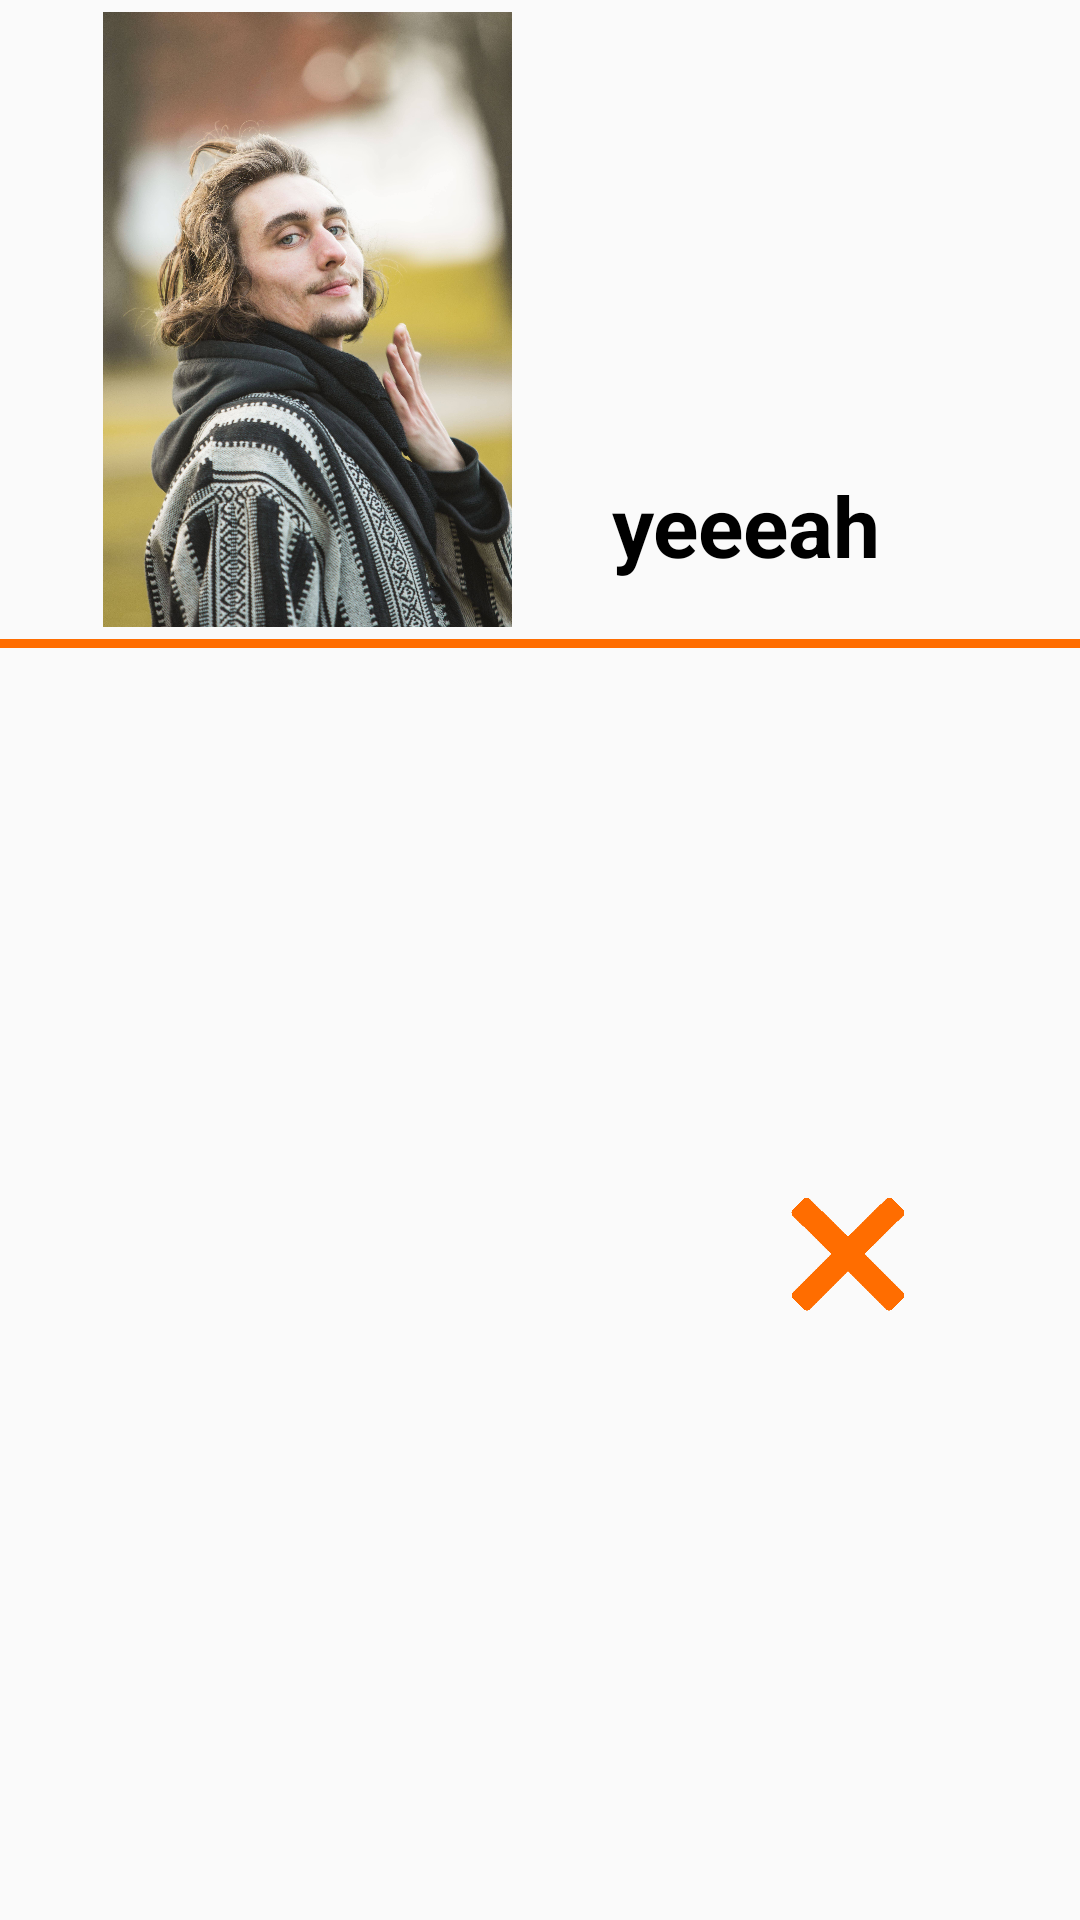

Icons on this 1080x1920 Android screen, each with its box as (x1, y1, x2, y2):
crosse: (791, 1198, 904, 1311)
